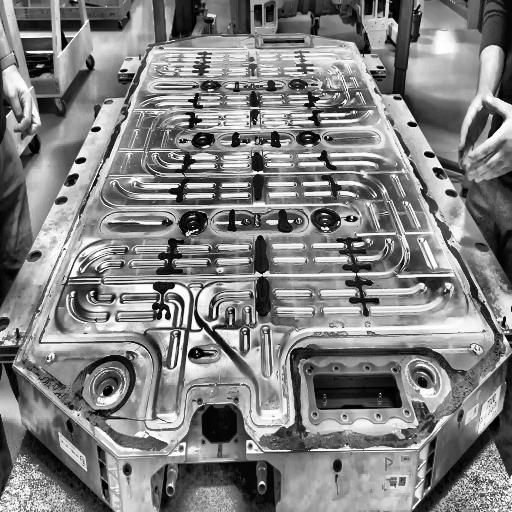b_casing: (0, 30, 512, 458)
